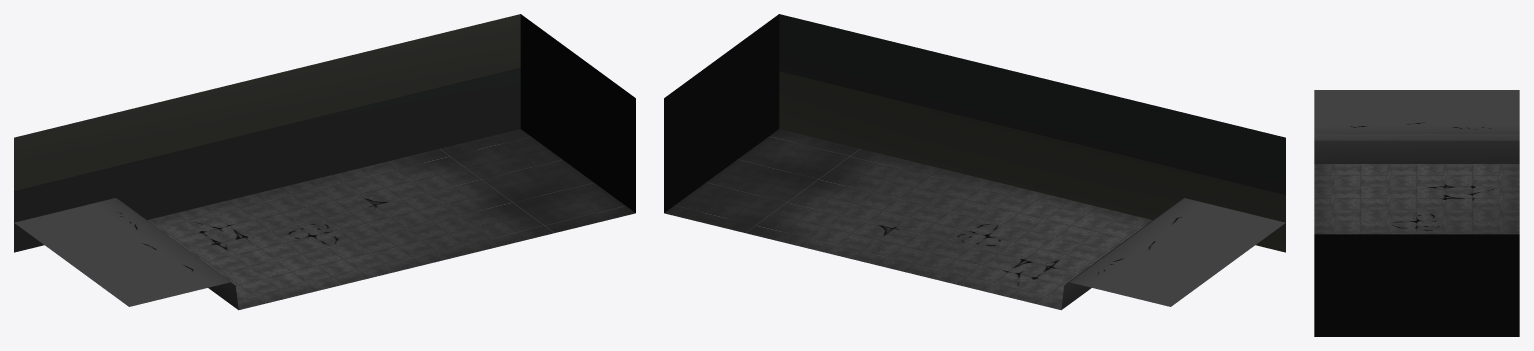
Rendered from stage_01.fbx.
The picture shows the model from 3 angles, left to right: view 1: azimuth 30°, elevation 25°; view 2: azimuth 150°, elevation 25°; view 3: azimuth 270°, elevation 25°; orthographic projection. The views are drawn at different scales.
Parts seen in each view (by area): view 1: stage_side, stage_main, stage_wall; view 2: stage_side, stage_main, stage_wall; view 3: stage_main, stage_wall.
Part boxes in pixels (bbox=[...]): stage_side: bbox=[14, 14, 520, 252]; stage_main: bbox=[14, 129, 635, 310]; stage_wall: bbox=[520, 14, 635, 212]; stage_side: bbox=[779, 14, 1285, 252]; stage_main: bbox=[664, 129, 1285, 310]; stage_wall: bbox=[664, 14, 779, 212]; stage_main: bbox=[1314, 90, 1519, 234]; stage_wall: bbox=[1314, 234, 1519, 336].
Bounding box in the file's own units: 6089 × 1321 × 2397.
